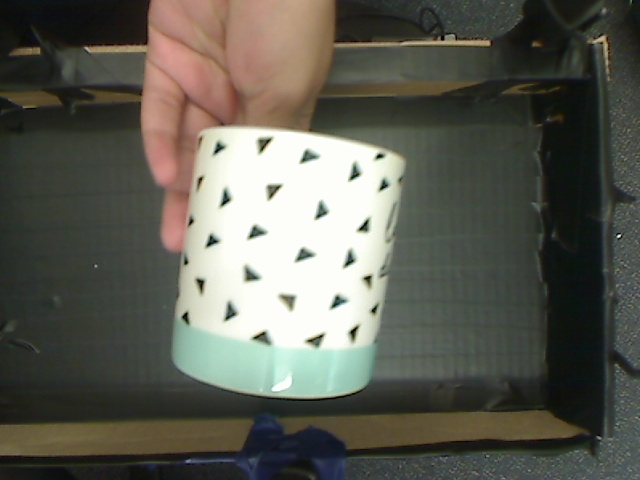mug: (140, 124, 416, 410)
